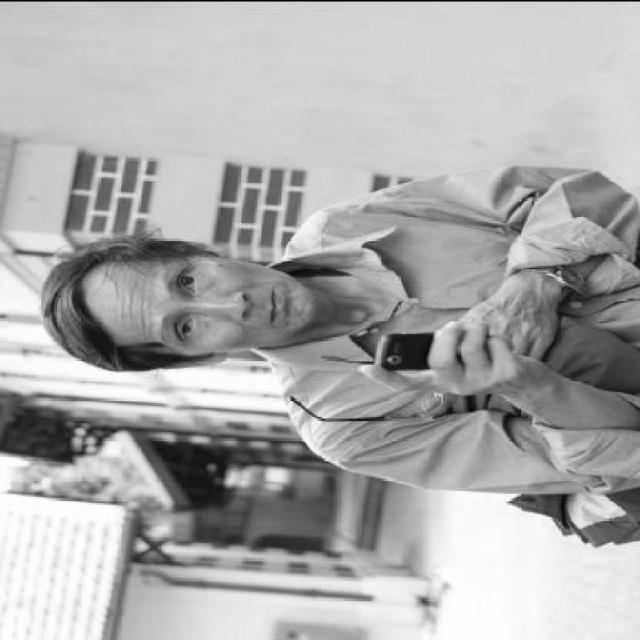fake: (371, 333, 451, 369)
